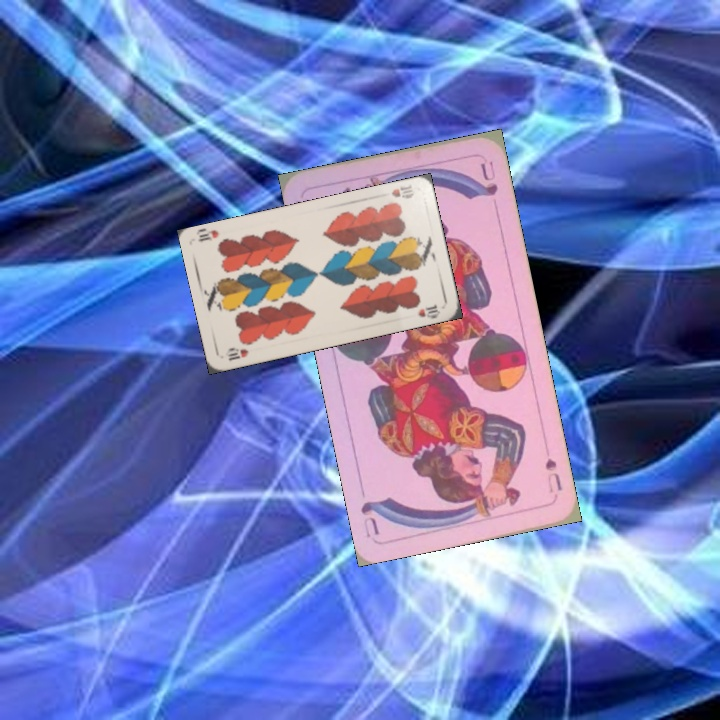H10: (387, 181, 417, 201), (221, 344, 251, 363)
SU: (541, 453, 565, 495)
